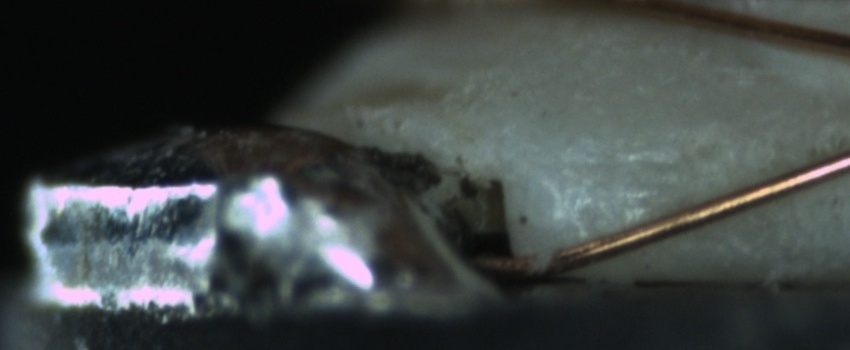DL: (559, 135, 701, 197)
